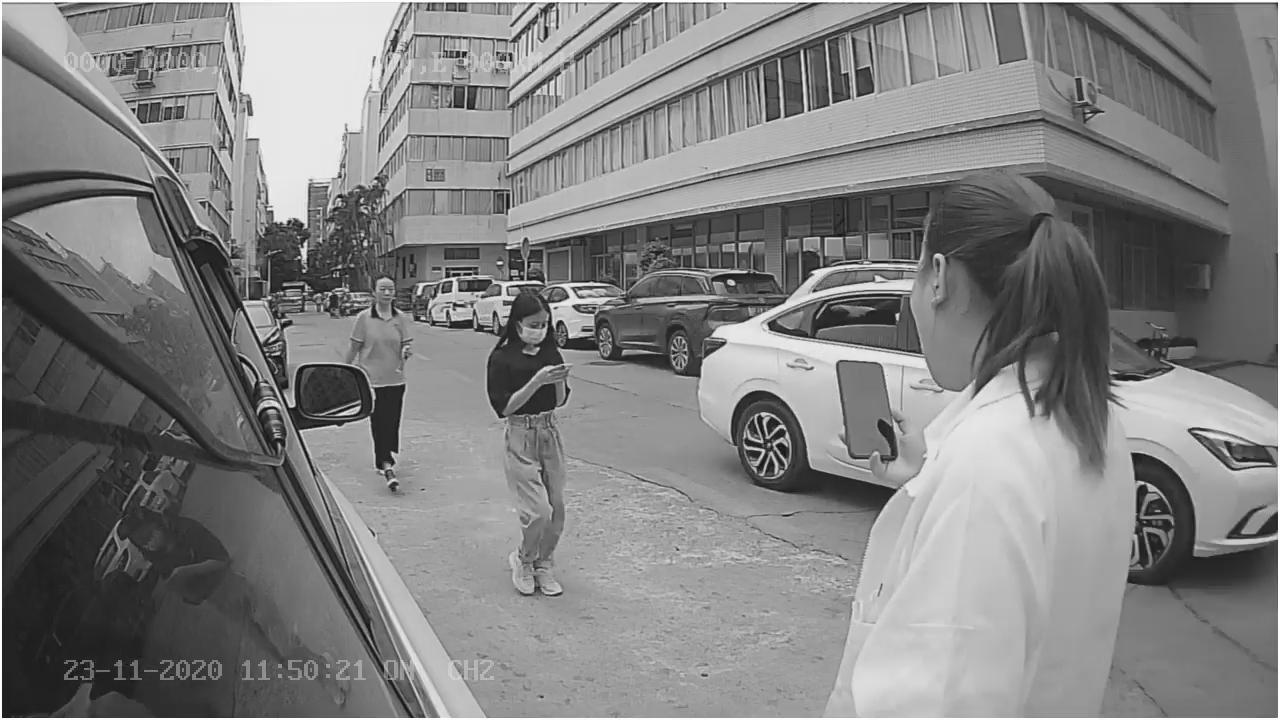person: (485, 289, 578, 599)
